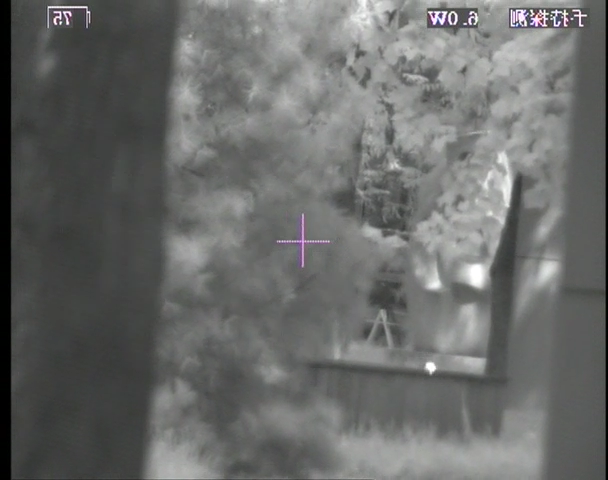my: (423, 359, 437, 375)
